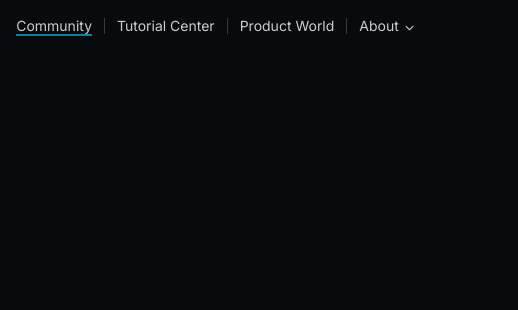
Scenario: HeaderNavbar — About dropdown › toggles the dropdown open/closed via the chevron
The width and height of the screenshot is (518, 310).
Check: the text "Guides & hardware explained" is not shown
Step 1. Click the button named "Toggle About menu" → (409, 26), box 401,12 -> 418,40
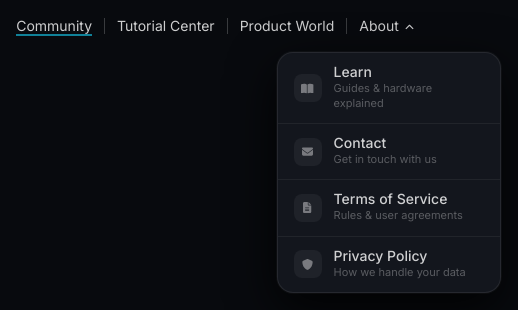
Check: the text "Guides & hardware explained" is shown, box 334,81 -> 432,110
